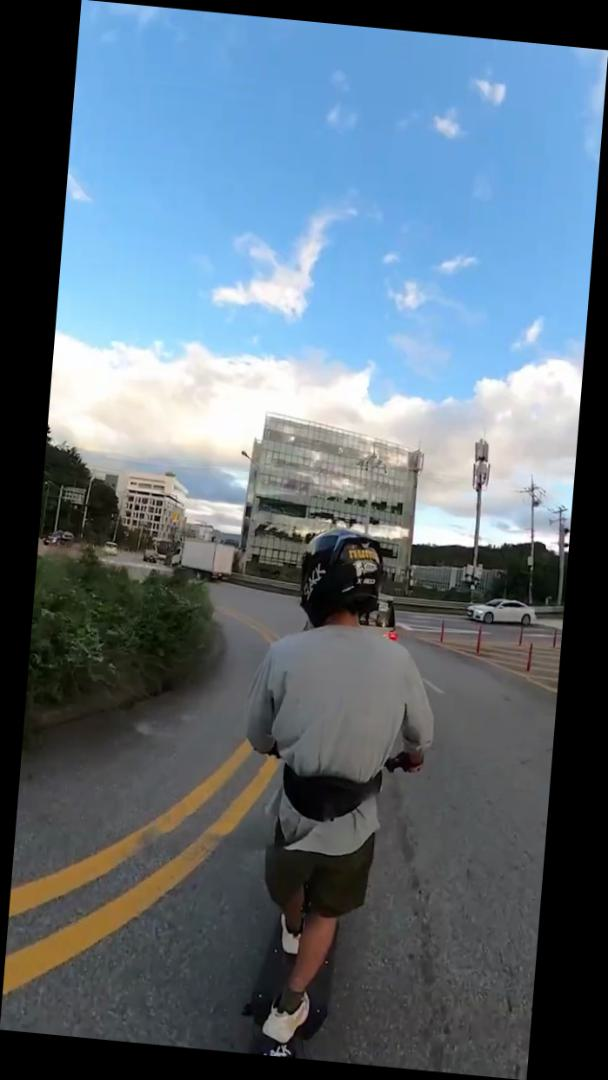helmet: (216, 517, 452, 1069)
